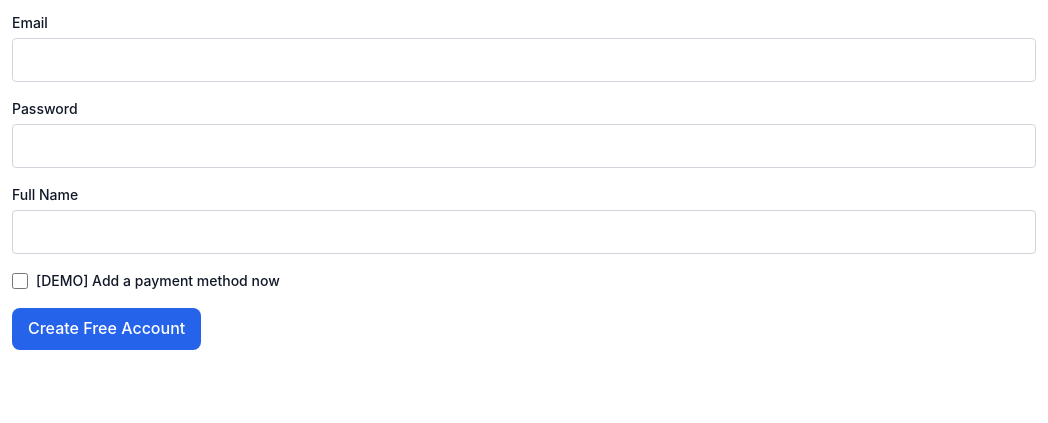
Test case: <RegisterForm /> › when the server rejects a duplicate email with 409 › should show a form-level duplicate-email message
The width and height of the screenshot is (1048, 423).
In the field labelled "Email": (524, 60) [12,38,1036,82], type "traveler@example.com"
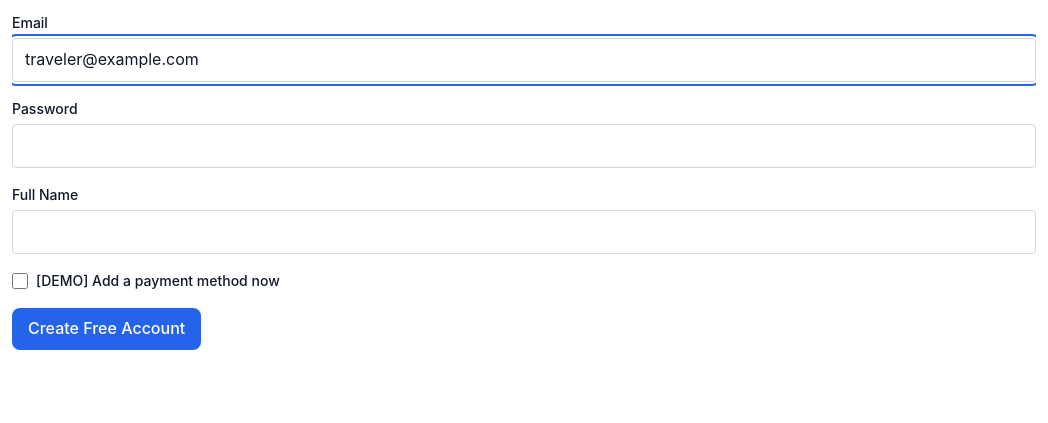
In the password field labelled "Password": (524, 146) [12,124,1036,168], type "CorrectHorse1!"
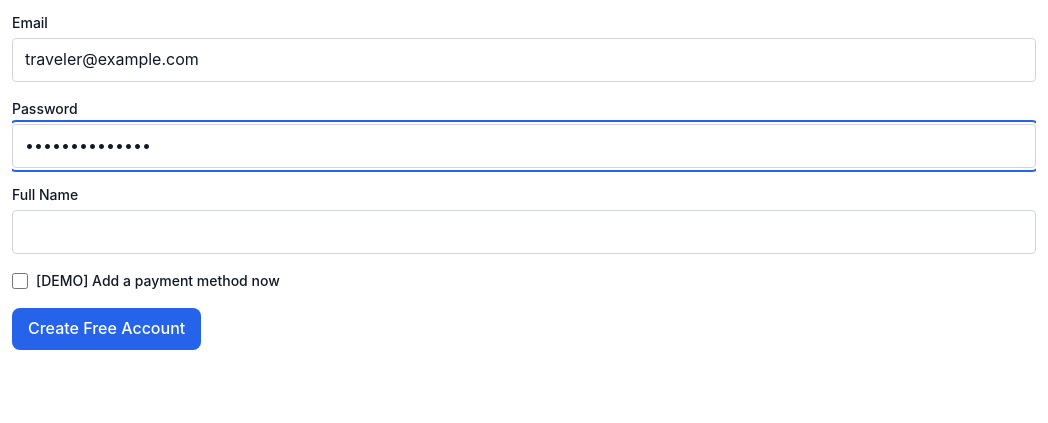
In the field labelled "Full Name": (524, 232) [12,210,1036,254], type "Ada Traveler"
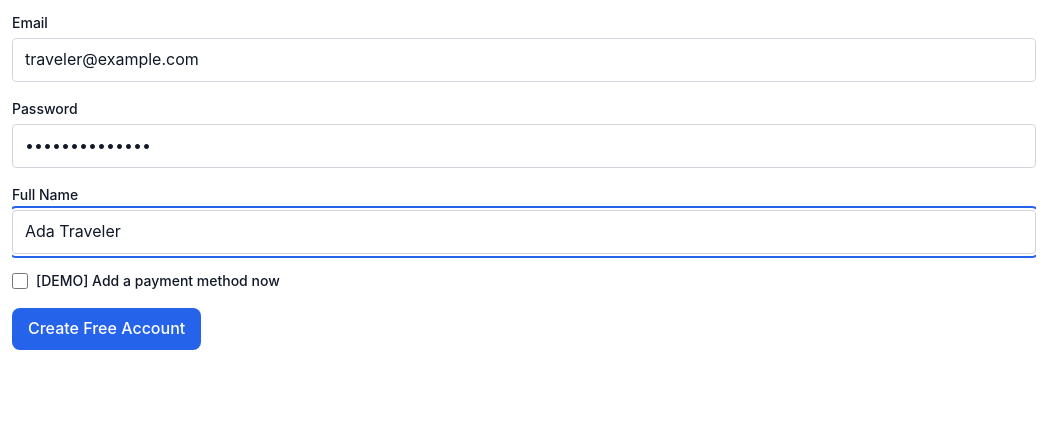
Click the button "Create Free Account": (107, 329) [12,308,201,350]
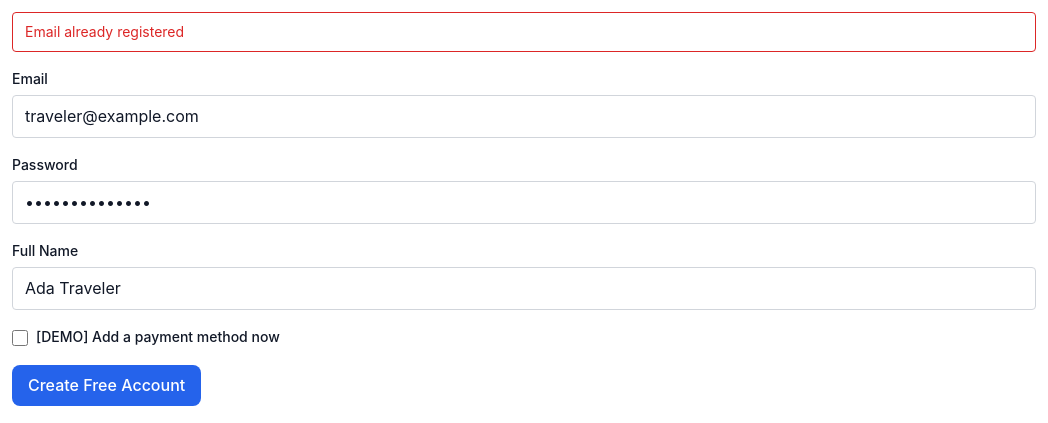
Expected: the text "Email already registered" is shown, [12,12,1036,52]
